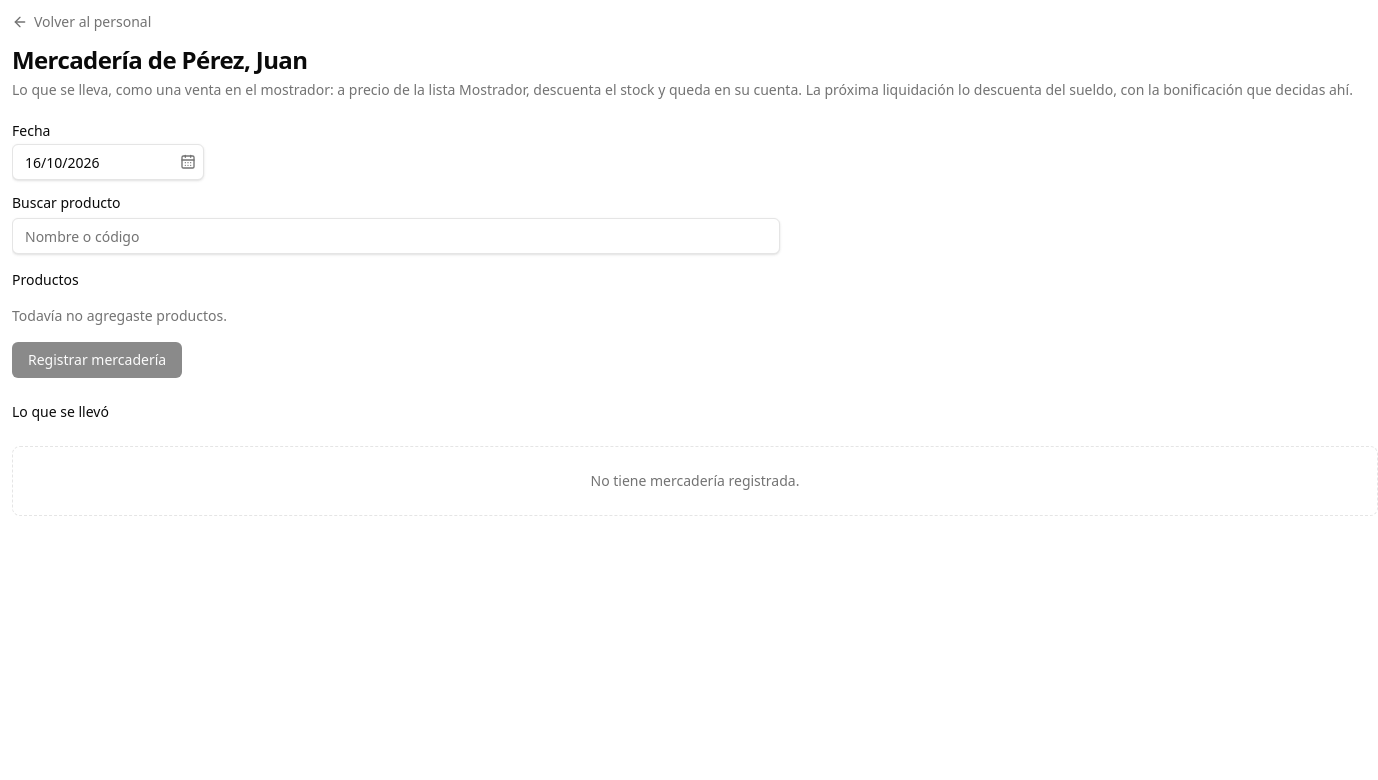
Test case: EmployeeGoodsPage › registers products and quantities at the server prices, and lists them as pending
Check: the text "No tiene mercadería registrada." is shown, box [12,446,1377,516]
Step 1. Type "asa" into the search field labelled "Buscar producto" → (396, 236), box [12,218,780,254]
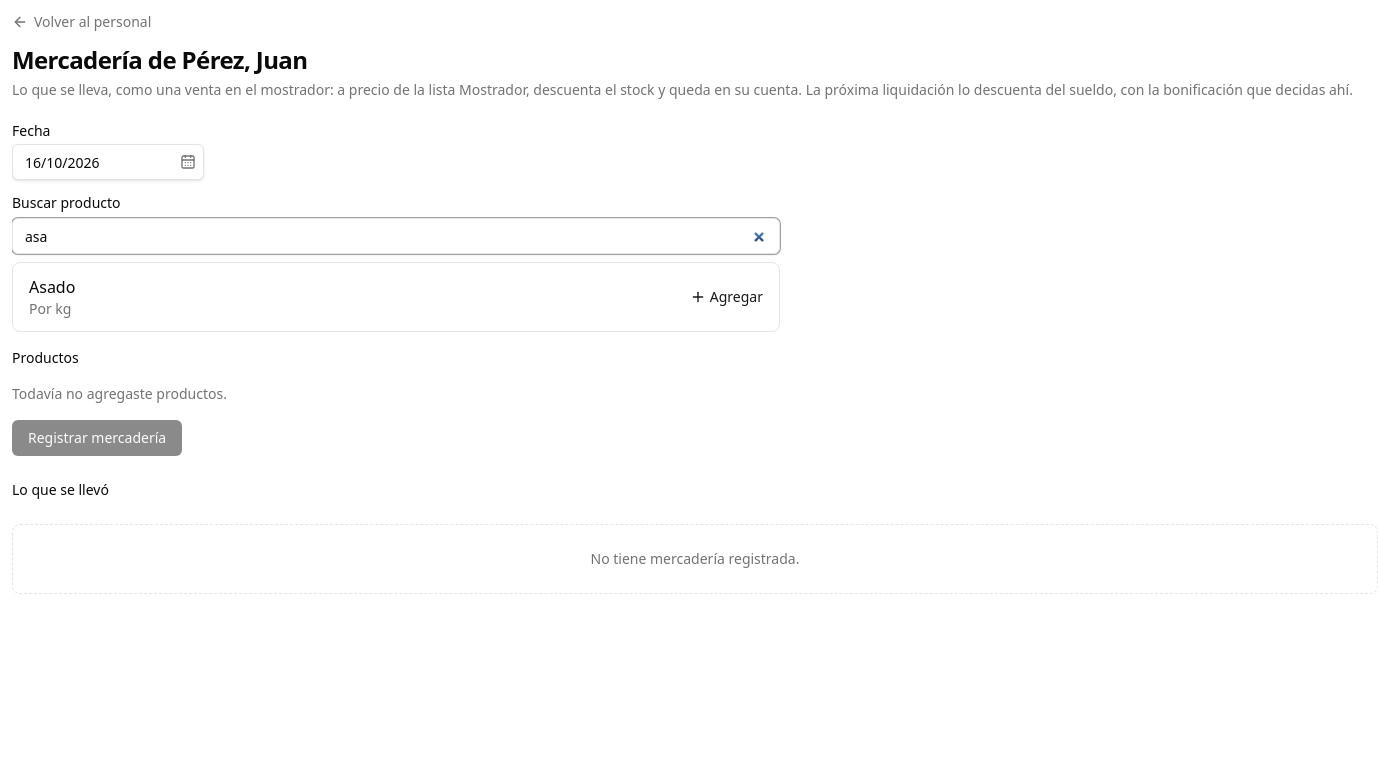
Step 2. Click the button "Agregar Asado Por kg" → (52, 287), box [12,262,780,332]
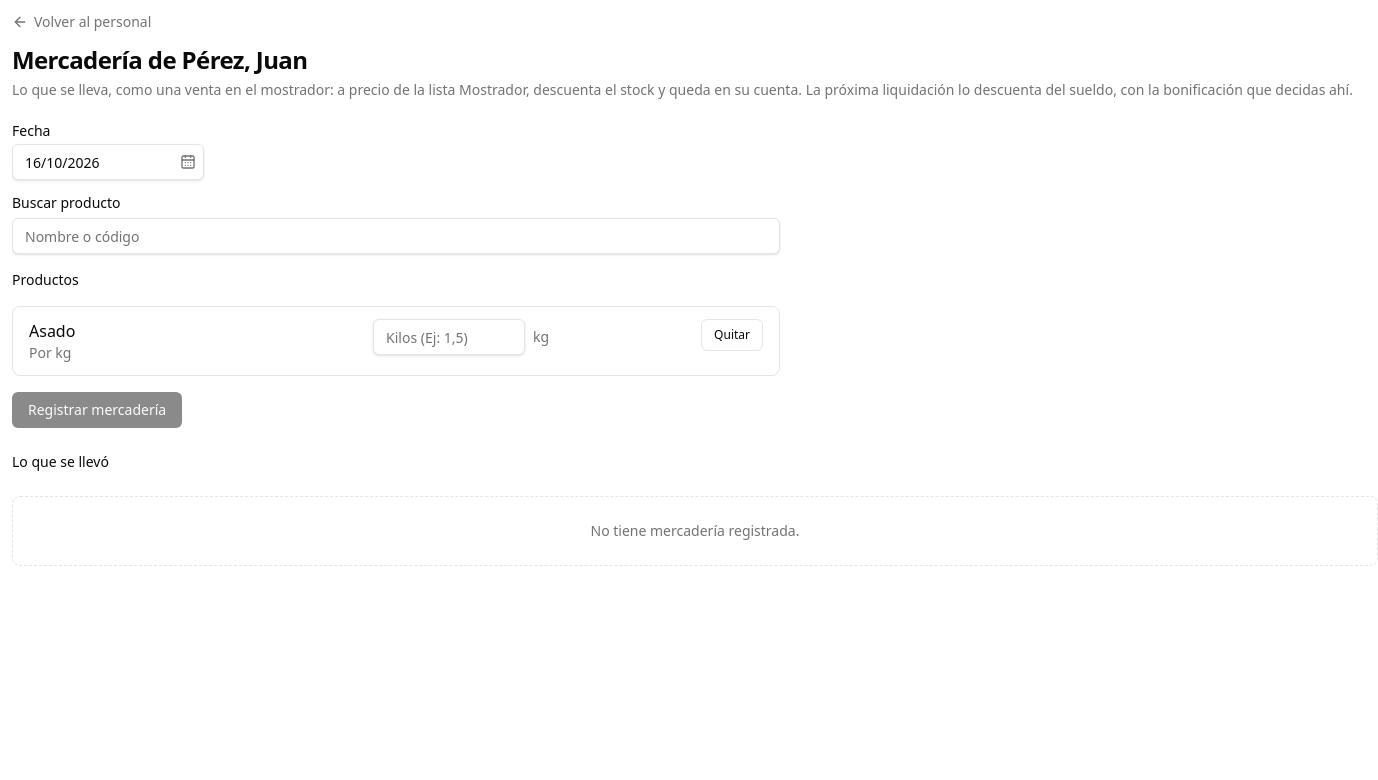
Step 3. Type "1,5" into the field named "Cantidad de Asado Por kg" → (449, 337), box [373,319,525,355]
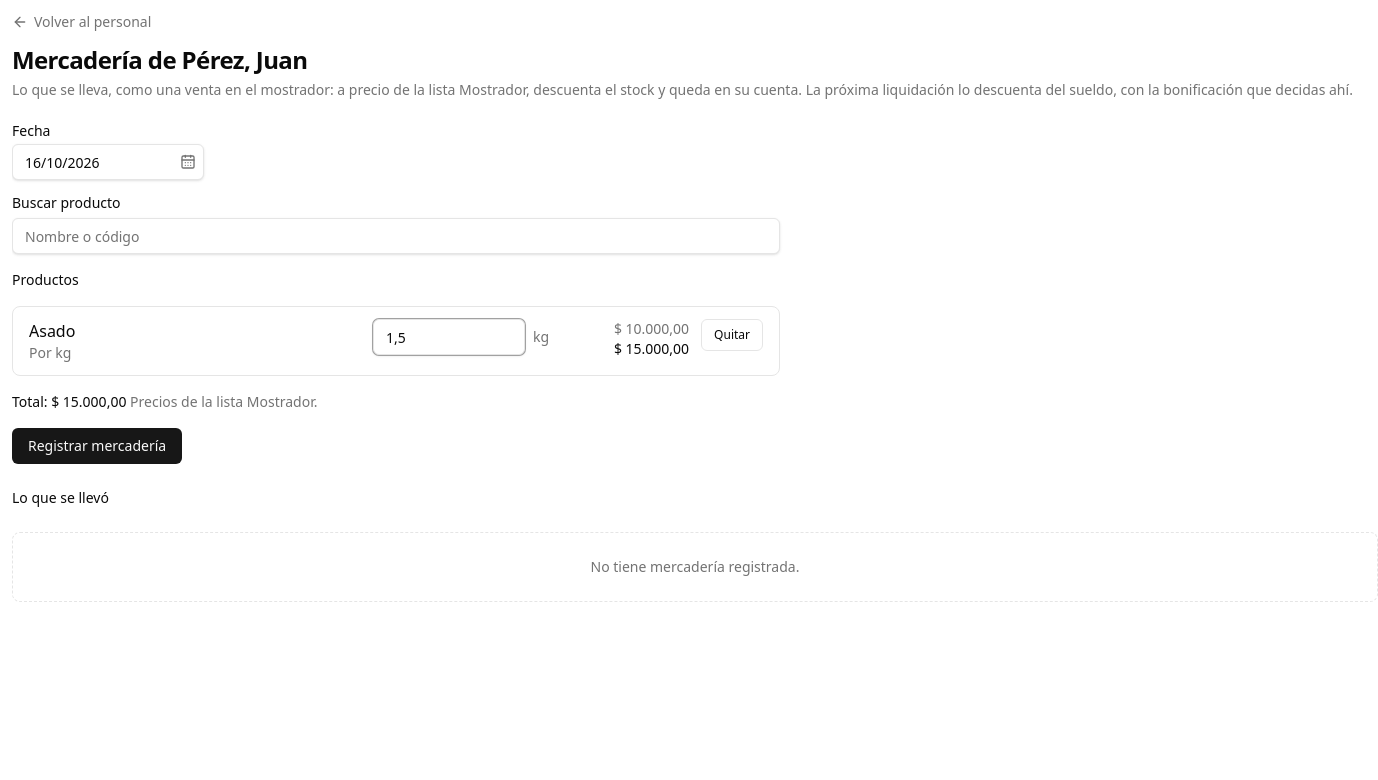
Check: the text "Total: $ 15.000,00" is shown, box [12,392,126,411]
Check: the text "Precios de la lista Mostrador." is shown, box [130,392,317,411]
Step 4. Click the button "Registrar mercadería" → (97, 446), box [12,428,182,464]
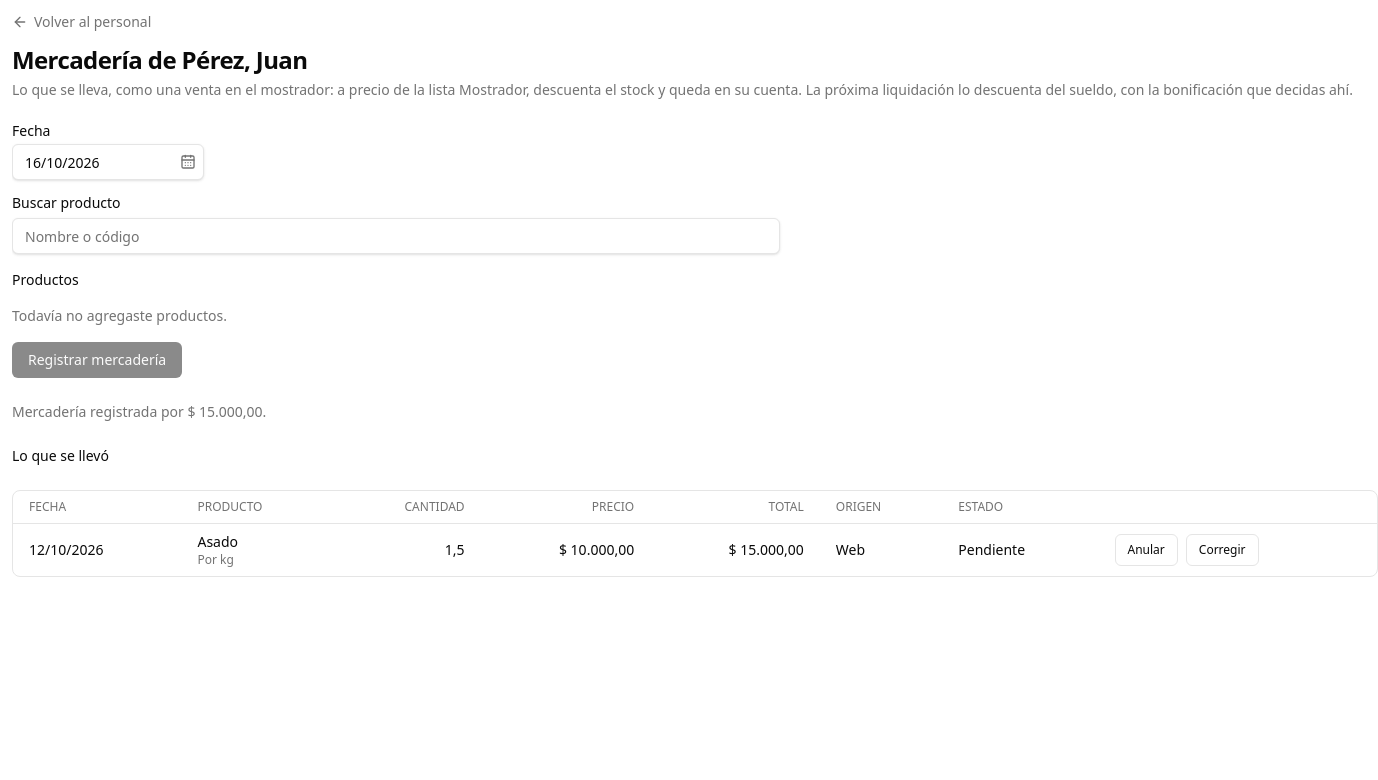
Check: the text "$ 15.000,00" is shown, box [650,524,820,576]
Check: the text "Mercadería registrada por $ 15.000,00." is shown, box [12,402,266,421]
Check: the text "Asado" is shown, box [198,532,238,551]
